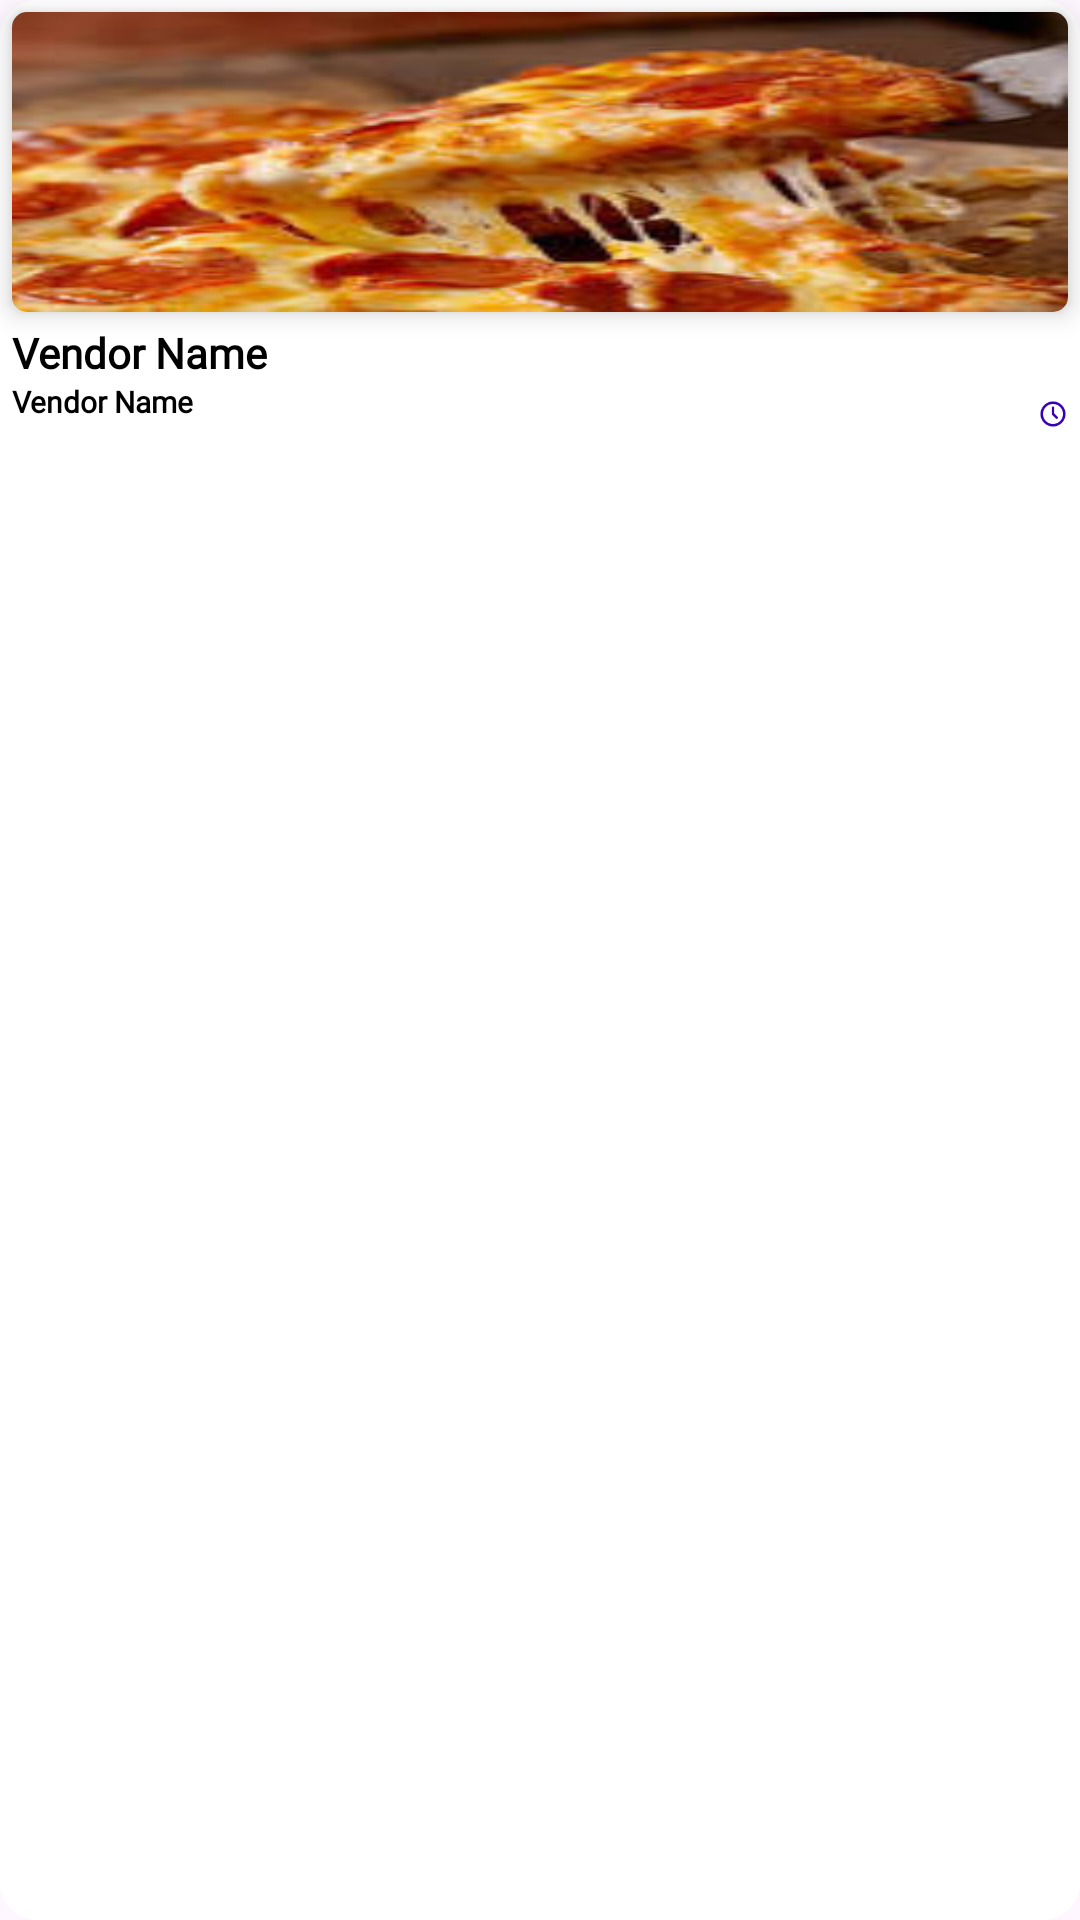

Named icons in this screenshot (1080w x 1920h) and their bounding boxes, (x1, y1, x2, y2):
watch: (1040, 401, 1066, 427)
